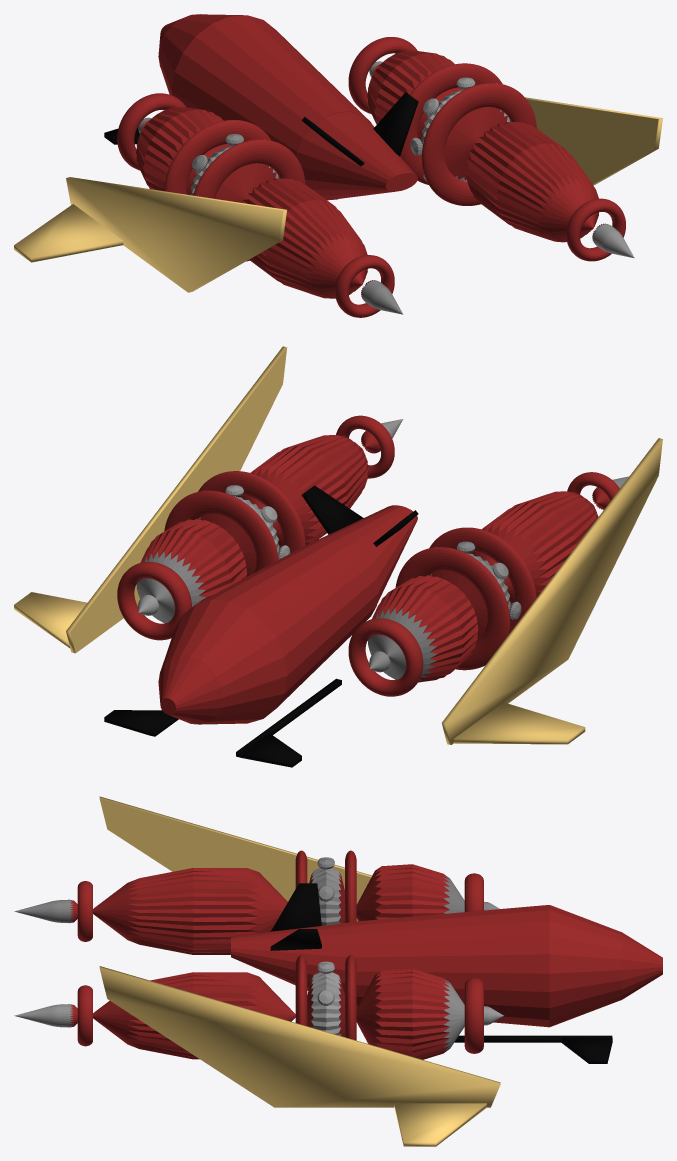
File: Spaceship (1).fbx
3 views of the same model, one above another, from view 1: azimuth 30°, elevation 25°; view 2: azimuth 150°, elevation 25°; view 3: azimuth 270°, elevation 25° (orthographic). The views are drawn at different scales.
Parts seen in each view (by area): view 1: Cylinder.002, Cylinder.004, Cylinder.006, Cylinder.009, Cylinder.008, Plane.008, Plane.007, Plane.006; view 2: Cylinder.006, Cylinder.004, Cylinder.002, Cylinder.009, Cylinder.008, Plane.008, Plane.011, Plane.007, Plane.009, Plane.010, Cube.003; view 3: Cylinder.006, Cylinder.008, Cylinder.004, Cylinder.002, Cylinder.009, Plane.011, Plane.006, Plane.010, Cube.004, Plane.007.
Boxes of the visible parts, x1=… form: Cylinder.002: x1=348, y1=37, x2=634, y2=261; Cylinder.004: x1=117, y1=93, x2=403, y2=317; Cylinder.006: x1=158, y1=14, x2=417, y2=200; Cylinder.009: x1=66, y1=177, x2=286, y2=292; Cylinder.008: x1=525, y1=97, x2=662, y2=185; Plane.008: x1=14, y1=204, x2=123, y2=262; Plane.007: x1=373, y1=92, x2=418, y2=156; Plane.006: x1=301, y1=116, x2=364, y2=165; Cylinder.006: x1=158, y1=505, x2=417, y2=724; Cylinder.004: x1=348, y1=472, x2=628, y2=696; Cylinder.002: x1=117, y1=415, x2=403, y2=640; Cylinder.009: x1=442, y1=438, x2=662, y2=744; Cylinder.008: x1=66, y1=346, x2=287, y2=653; Plane.008: x1=453, y1=702, x2=585, y2=744; Plane.011: x1=14, y1=592, x2=87, y2=648; Plane.007: x1=301, y1=485, x2=363, y2=534; Plane.009: x1=240, y1=733, x2=301, y2=767; Plane.010: x1=104, y1=710, x2=170, y2=735; Cube.003: x1=236, y1=678, x2=341, y2=757; Cylinder.006: x1=231, y1=905, x2=662, y2=1027; Cylinder.008: x1=99, y1=966, x2=500, y2=1107; Cylinder.004: x1=14, y1=850, x2=499, y2=954; Cylinder.002: x1=14, y1=955, x2=503, y2=1059; Cylinder.009: x1=99, y1=796, x2=371, y2=921; Plane.011: x1=394, y1=1103, x2=486, y2=1146; Plane.006: x1=271, y1=883, x2=321, y2=931; Plane.010: x1=560, y1=1037, x2=612, y2=1063; Cube.004: x1=454, y1=1035, x2=612, y2=1042; Plane.007: x1=270, y1=929, x2=321, y2=950.
Bounding box in the file's own units: 958 × 250 × 1051.
